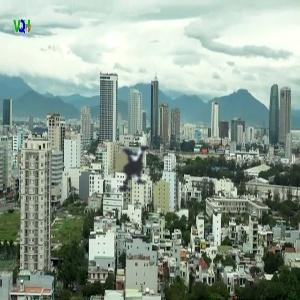drone: (83, 117, 186, 220)
